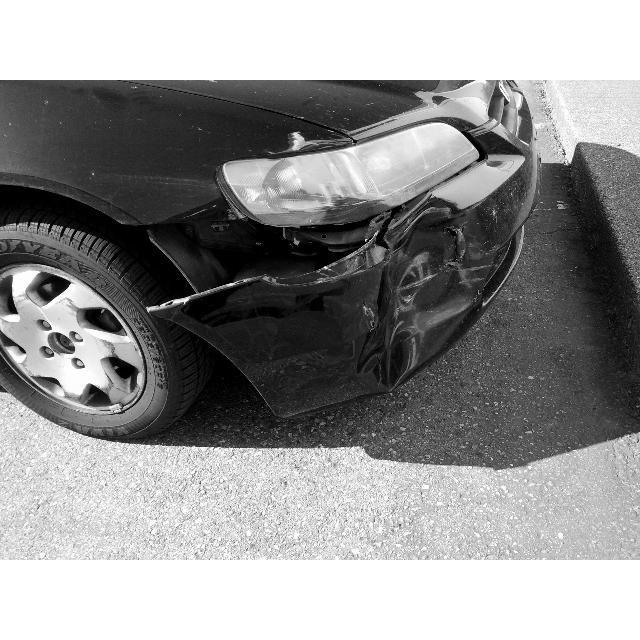Front-windscreen-damage: (170, 210, 404, 403), (356, 192, 488, 356)
front-bumper-dent: (393, 208, 472, 297)
